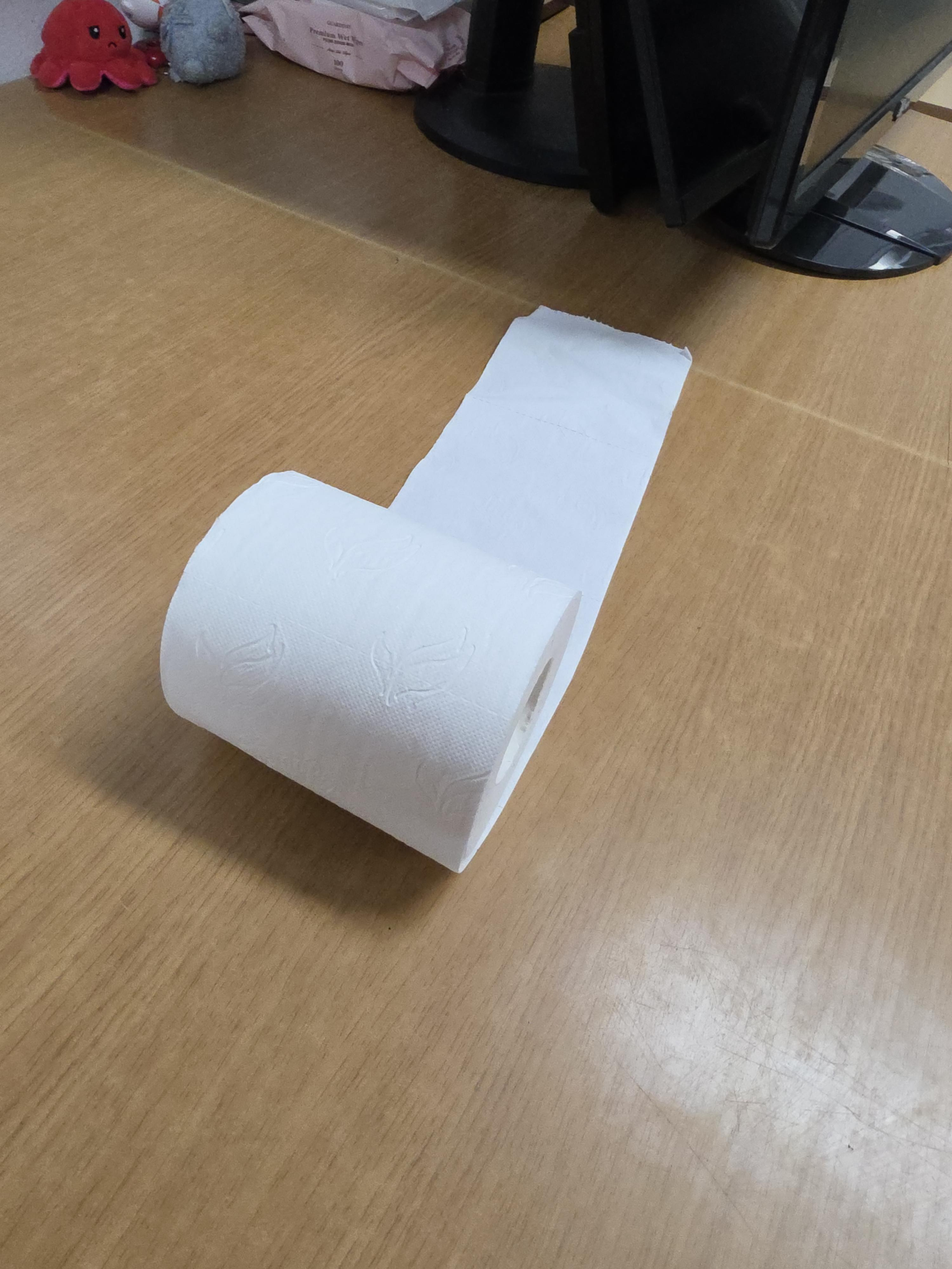tissue: (160, 305, 692, 874)
